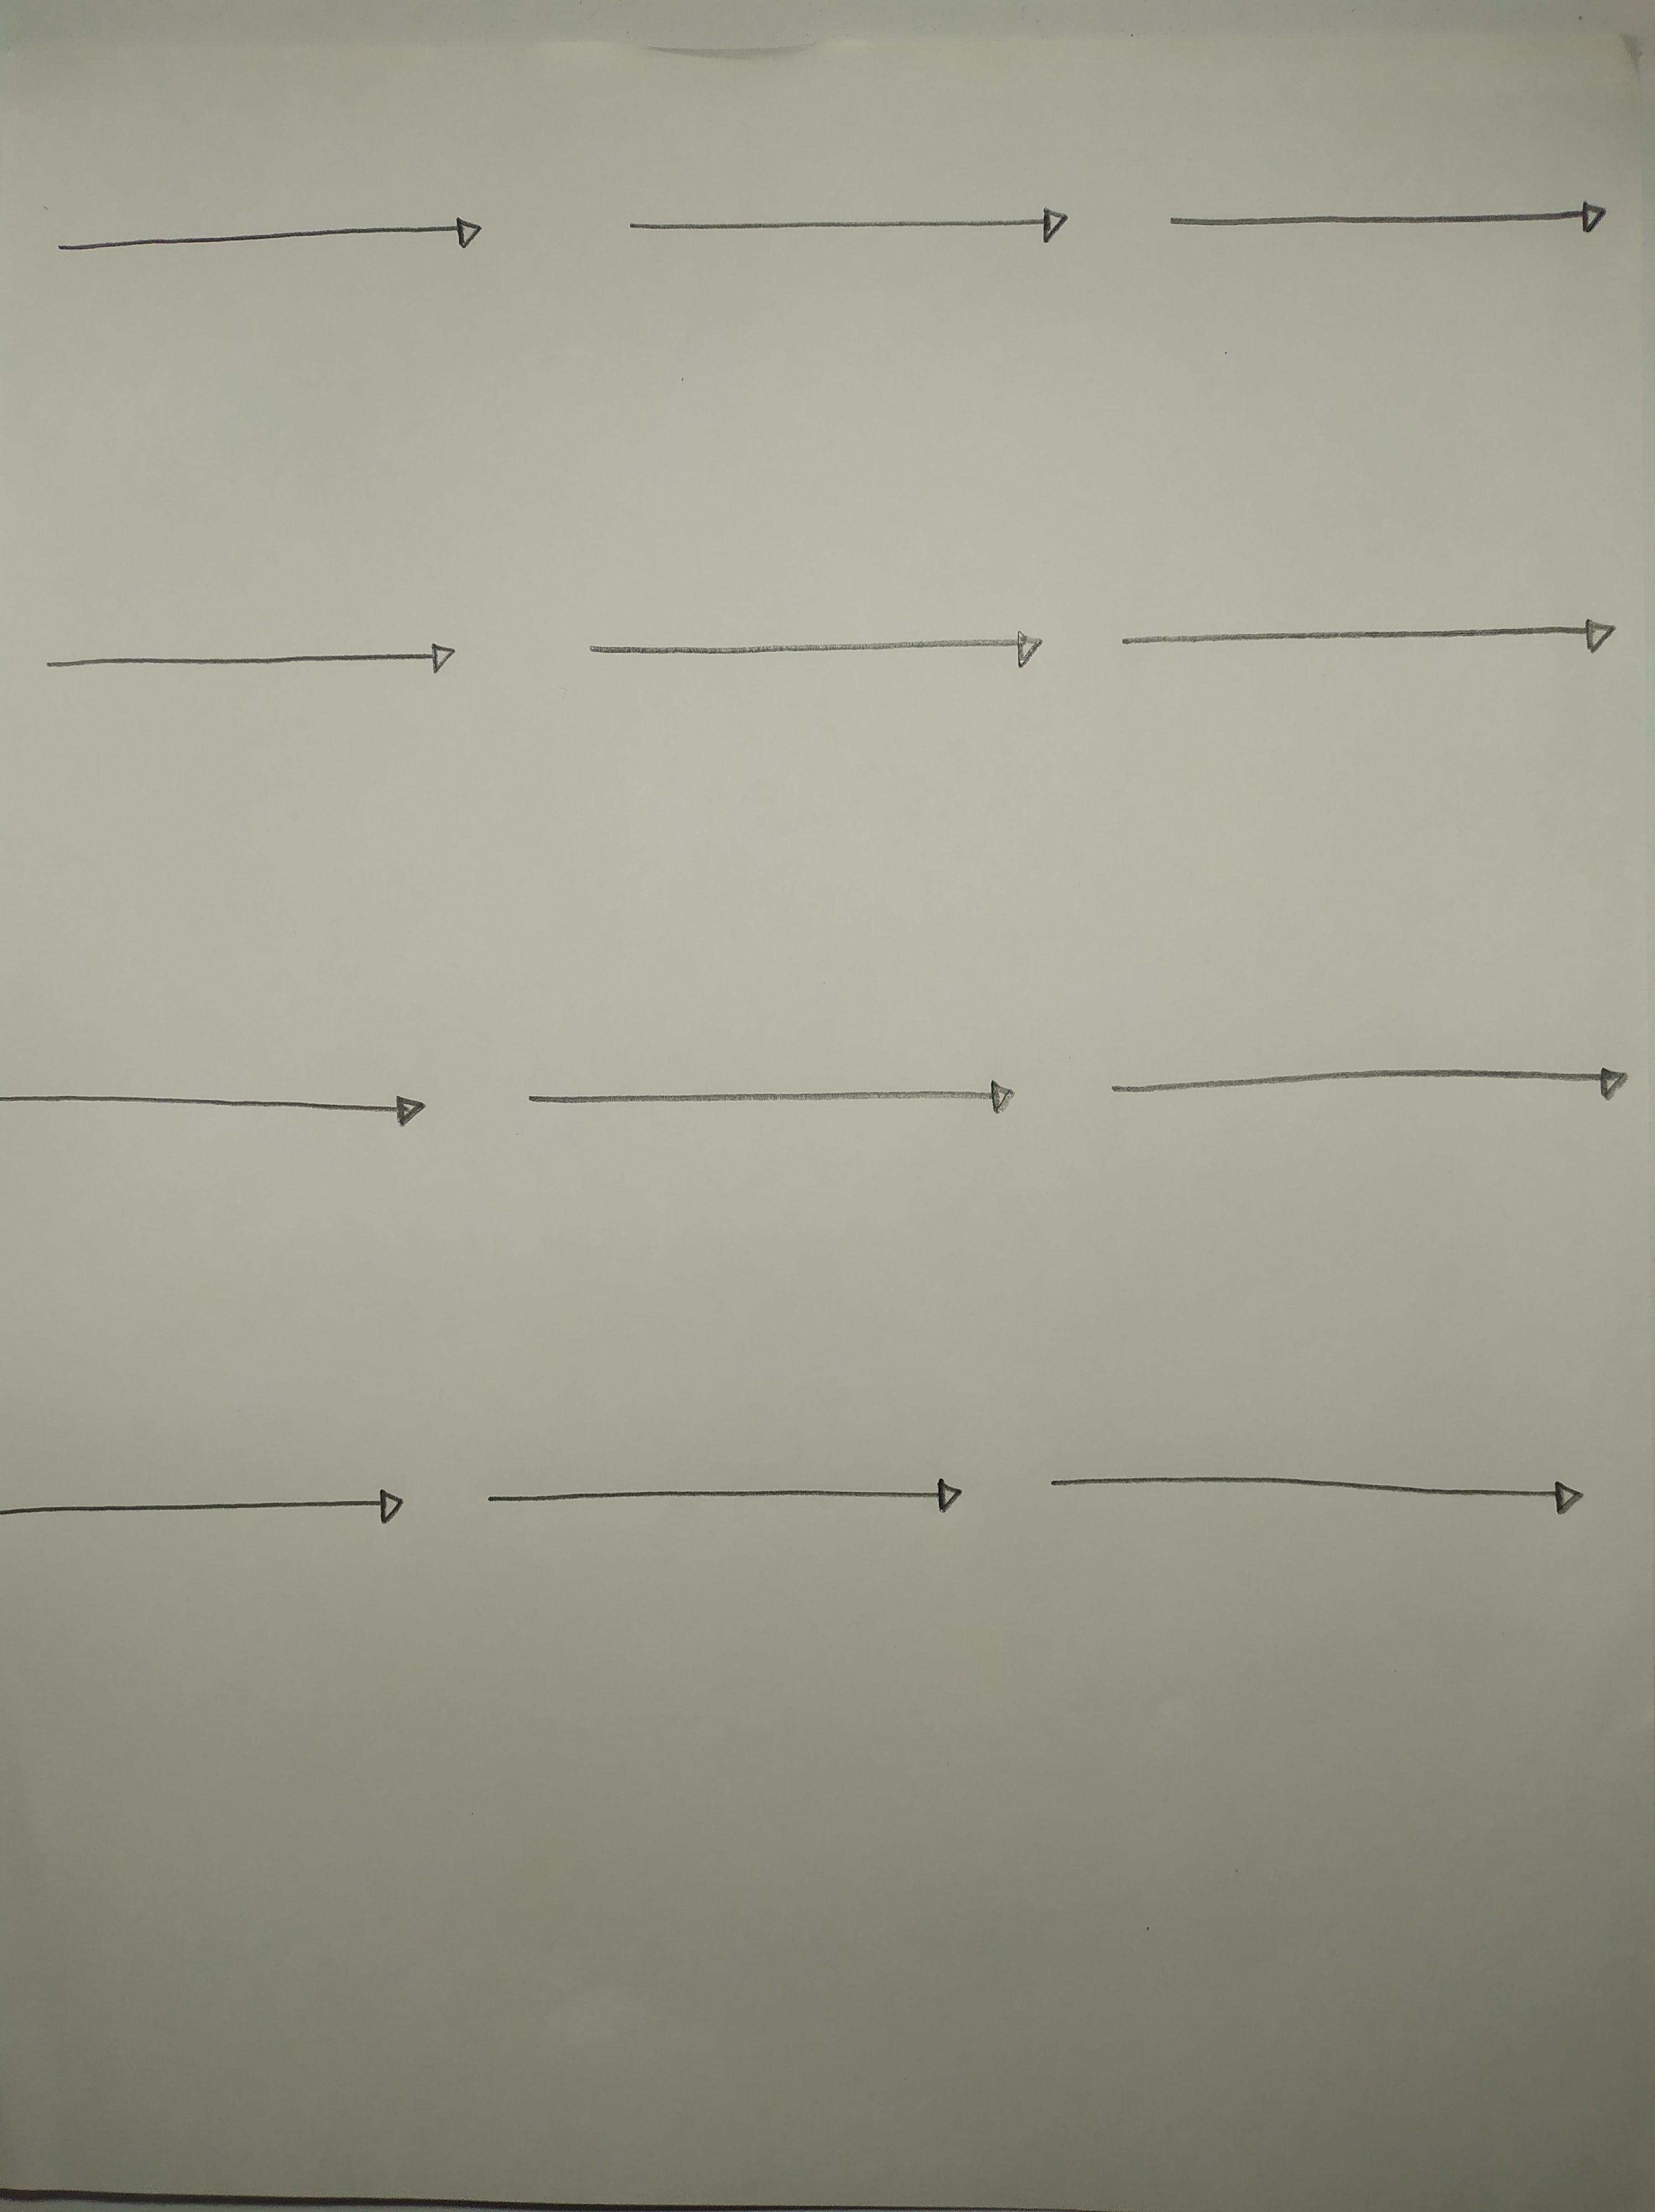arrow_line_right: (1027, 1434, 1594, 1534), (504, 1055, 1033, 1145), (1087, 1051, 1648, 1131), (462, 1456, 1008, 1536), (0, 1058, 449, 1154), (30, 202, 515, 285), (591, 196, 1092, 264), (0, 1463, 428, 1541), (563, 610, 1050, 678), (1093, 613, 1646, 672), (1147, 191, 1631, 257), (12, 629, 490, 692)
